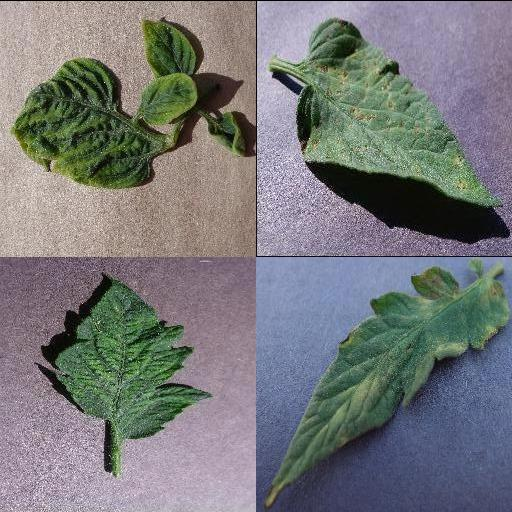Leaf Mold: (260, 264, 510, 508)
Mosaic Virus: (54, 280, 212, 440)
Septoria: (296, 17, 504, 208)
Yellow Leaf Curl Virus: (12, 56, 154, 190), (141, 19, 197, 75), (141, 70, 199, 124)
